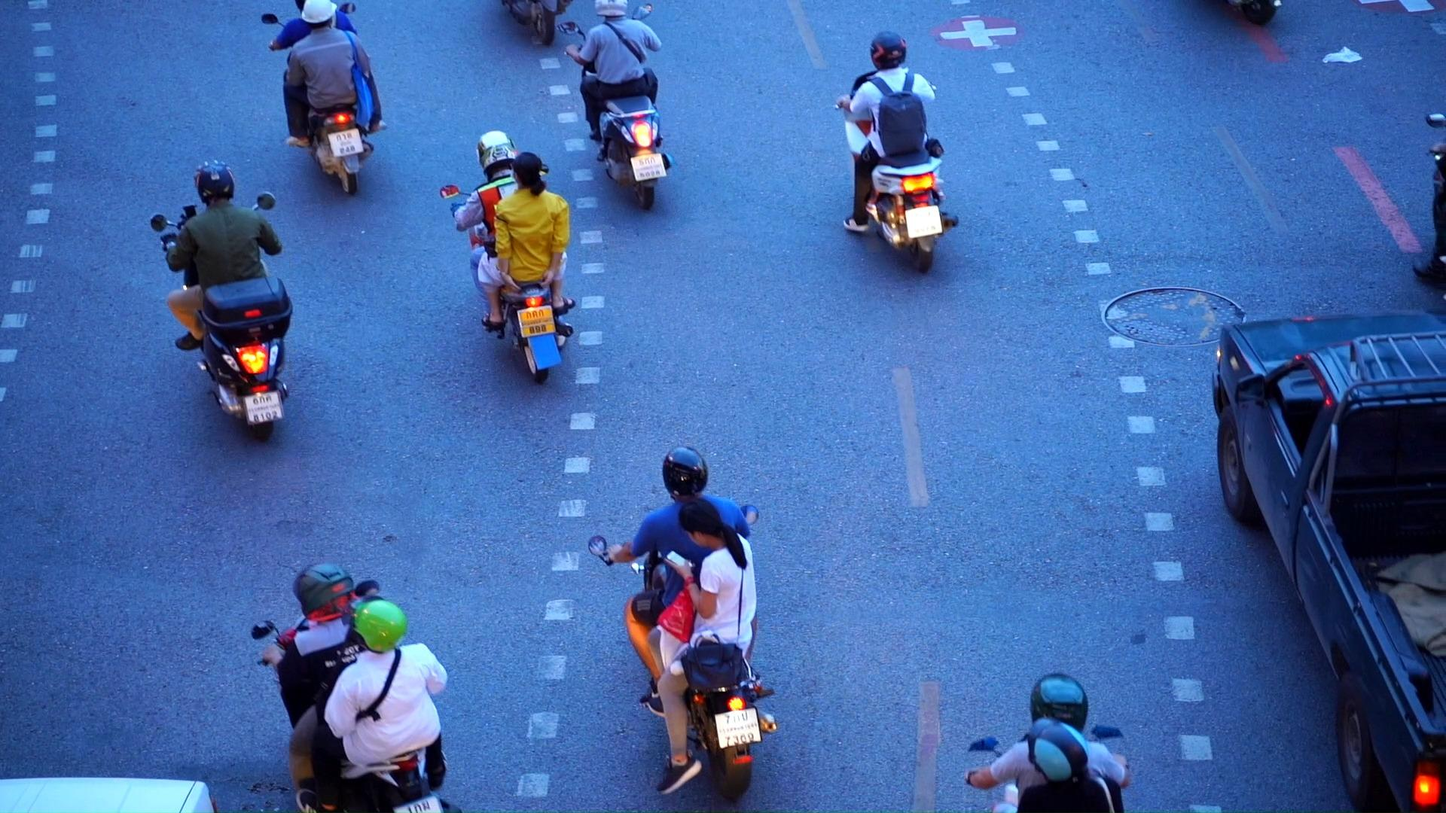driver: (587, 444, 779, 802), (250, 561, 462, 813), (149, 160, 296, 442), (440, 130, 576, 385), (833, 31, 960, 275), (558, 0, 677, 211), (260, 0, 386, 196), (963, 672, 1130, 813)
helmet: (1028, 717, 1090, 786), (341, 594, 407, 655), (292, 562, 354, 621), (1030, 673, 1088, 734), (662, 445, 708, 501), (476, 130, 517, 176), (193, 160, 235, 204), (871, 31, 906, 71), (302, 0, 337, 30), (595, 0, 628, 17)
no-helmet: (679, 497, 746, 551), (513, 152, 546, 197)
